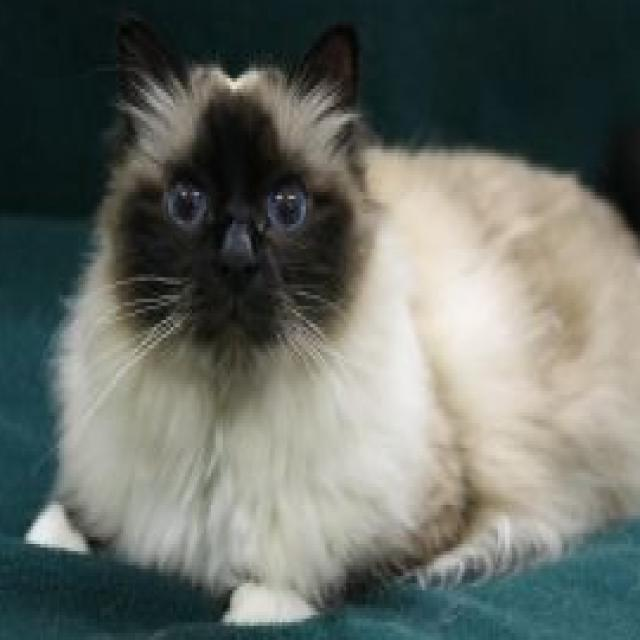Birman: (19, 0, 640, 629)
